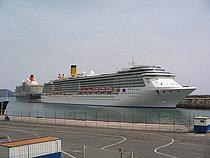Ship: (39, 53, 201, 113)
